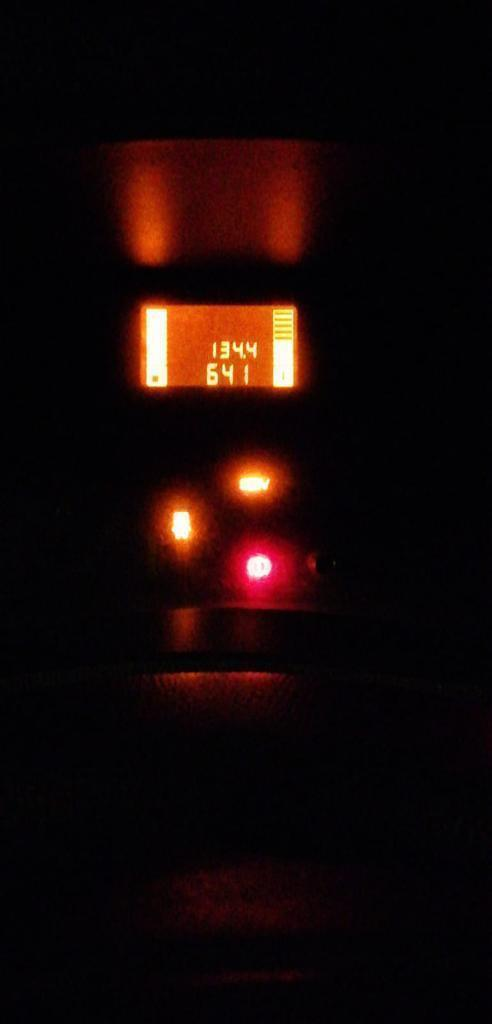,: (242, 353, 246, 360)
1: (240, 362, 249, 385), (210, 340, 217, 359)
3: (219, 339, 230, 360)
4: (221, 361, 233, 385), (231, 339, 242, 360), (246, 340, 257, 359)
6: (206, 361, 219, 386)
odometer: (134, 302, 300, 389)
